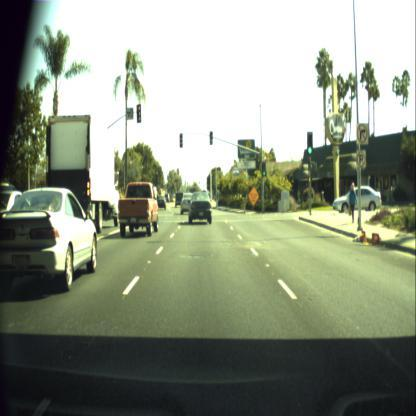Green: (306, 131, 312, 156), (262, 161, 266, 176)
off: (136, 104, 141, 122), (179, 133, 183, 148), (209, 130, 212, 144)
